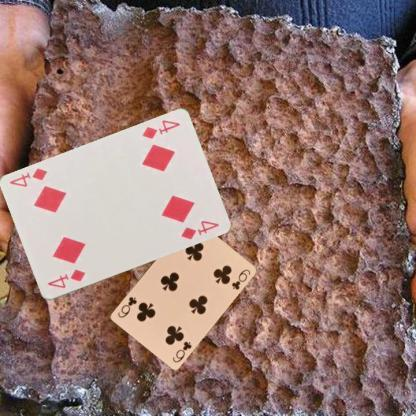4d: (44, 267, 86, 290), (140, 118, 182, 140)
6c: (170, 338, 193, 364)
